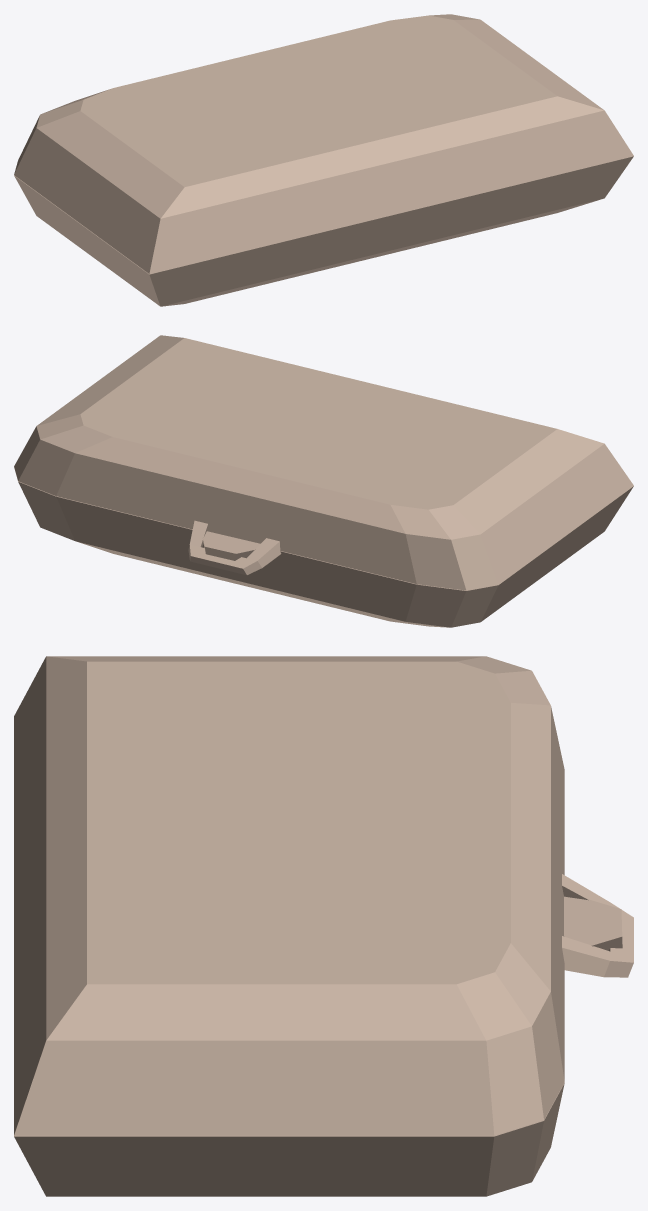
The model's file is CartonKebab.fbx.
3 views of the same model, one above another, from view 1: azimuth 30°, elevation 25°; view 2: azimuth 150°, elevation 25°; view 3: azimuth 270°, elevation 25° (orthographic). The views are drawn at different scales.
Parts seen in each view (by area): view 1: CartonKebab, CartonKebabTop; view 2: CartonKebab, CartonKebabTop; view 3: CartonKebab, CartonKebabTop.
Part boxes in pixels (x1,y1,x2,y2): CartonKebab: (14,14,633,273); CartonKebabTop: (14,156,633,306); CartonKebab: (14,335,633,590); CartonKebabTop: (14,467,633,627); CartonKebab: (14,656,633,1135); CartonKebabTop: (14,896,622,1196).
Size of the model in its own units: 33.03 by 7.61 by 20.64.
